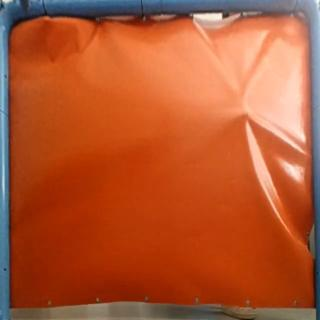Hit-hRxx: (239, 106, 255, 119)
